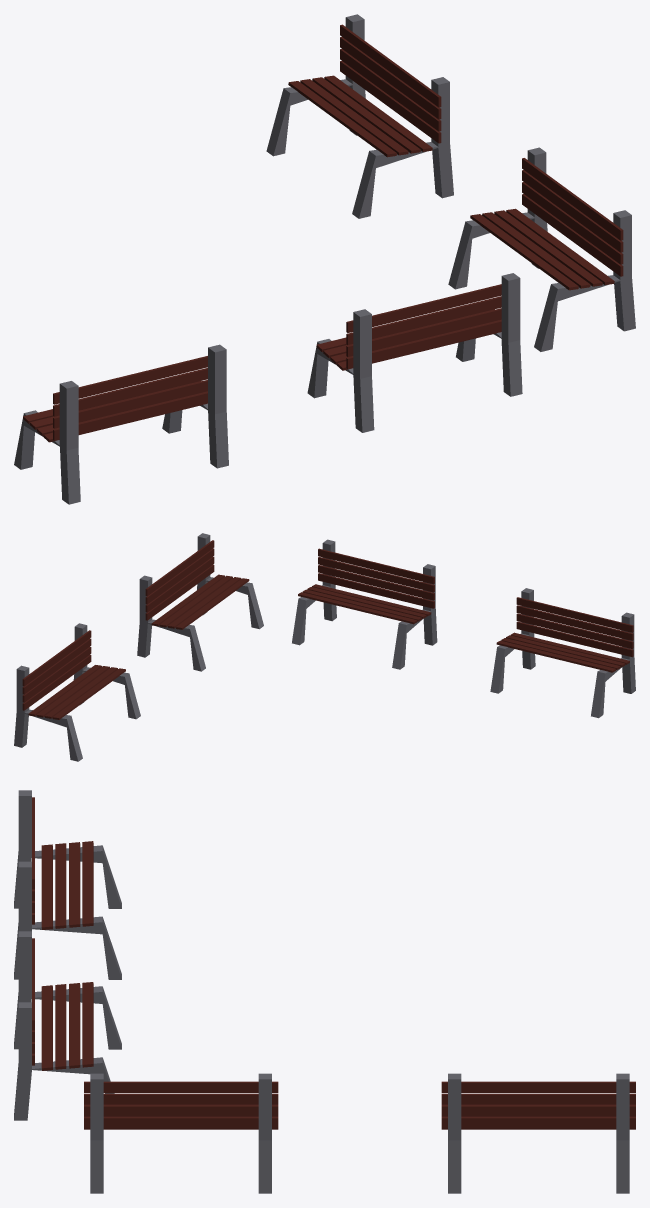
The model's file is swingbench.glb.
3 renders of one model, top to bottom at view 1: azimuth 30°, elevation 25°; view 2: azimuth 150°, elevation 25°; view 3: azimuth 270°, elevation 25°, orthographic. The views are drawn at different scales.
Parts seen in each view (by area): view 1: Cube.014; view 2: Cube.014; view 3: Cube.014.
Part boxes in pixels (x1,y1,x2,y2): Cube.014: (14,14,635,504); Cube.014: (14,533,635,761); Cube.014: (14,790,635,1193).
Bounding box in the file's own units: 1.48 × 0.2664 × 1.33.
